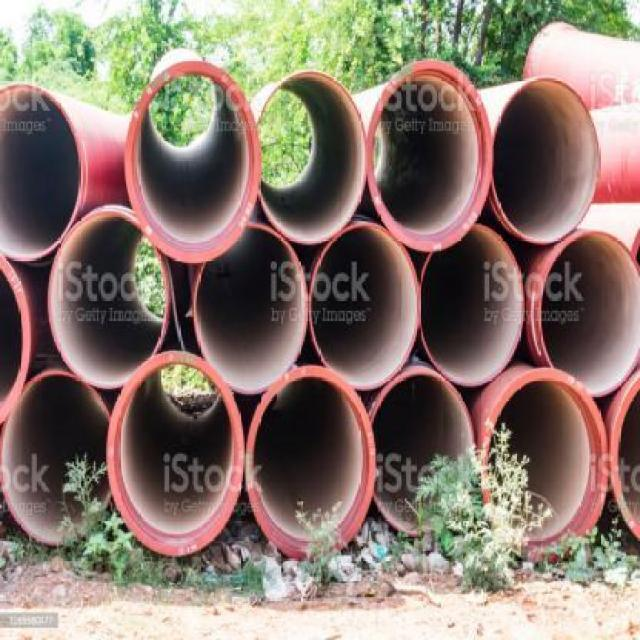pipe: (106, 349, 245, 557), (123, 61, 262, 263), (247, 365, 376, 562), (482, 368, 610, 564), (367, 59, 492, 252), (47, 210, 169, 389), (194, 224, 309, 395), (0, 372, 112, 546), (308, 222, 421, 390), (258, 72, 367, 243), (491, 76, 600, 242), (371, 370, 476, 536), (419, 225, 525, 387), (538, 230, 640, 396), (0, 83, 82, 262), (0, 253, 35, 424), (607, 372, 640, 550)
